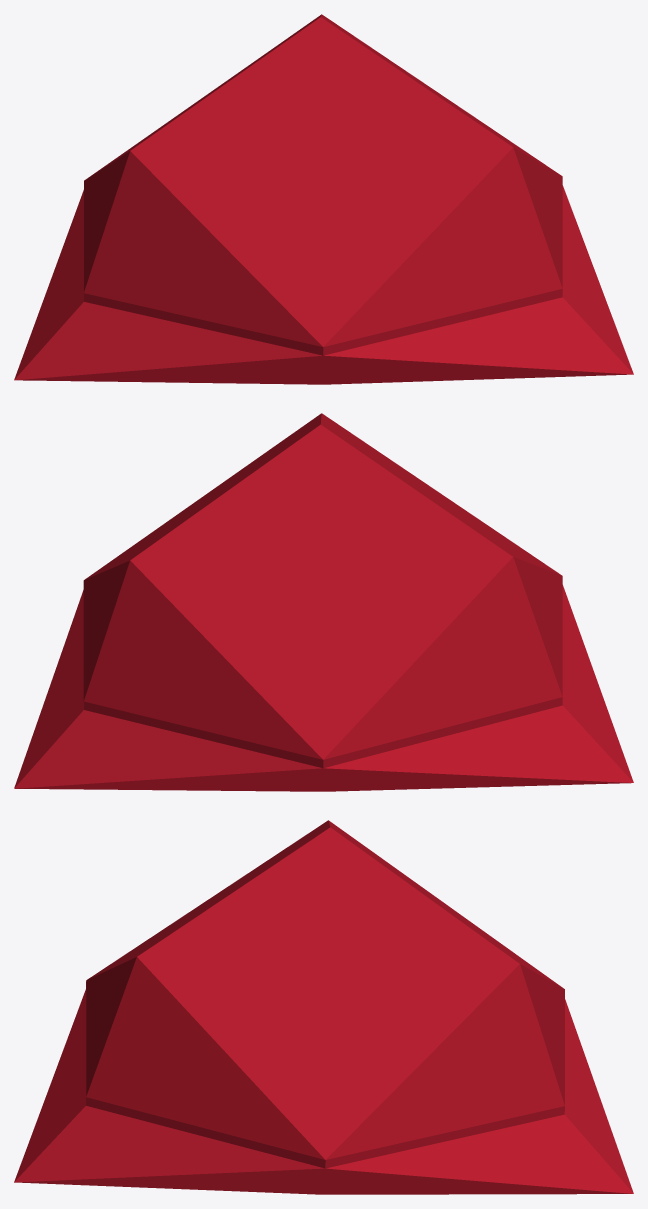
The model's file is tree-dead-leaves-022.glb.
3 views of the same model, one above another, from view 1: azimuth 30°, elevation 25°; view 2: azimuth 150°, elevation 25°; view 3: azimuth 270°, elevation 25° (orthographic).
Parts seen in each view (by area): view 1: dobj.003_461; view 2: dobj.003_461; view 3: dobj.003_461.
Part boxes in pixels (x1=…): dobj.003_461: x1=14, y1=14, x2=633, y2=384; dobj.003_461: x1=14, y1=413, x2=633, y2=791; dobj.003_461: x1=14, y1=820, x2=633, y2=1194.
Size of the model in its own units: 0.8999 by 0.482 by 0.8793.
